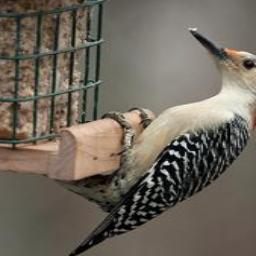Woodpecker: (53, 26, 256, 256)
